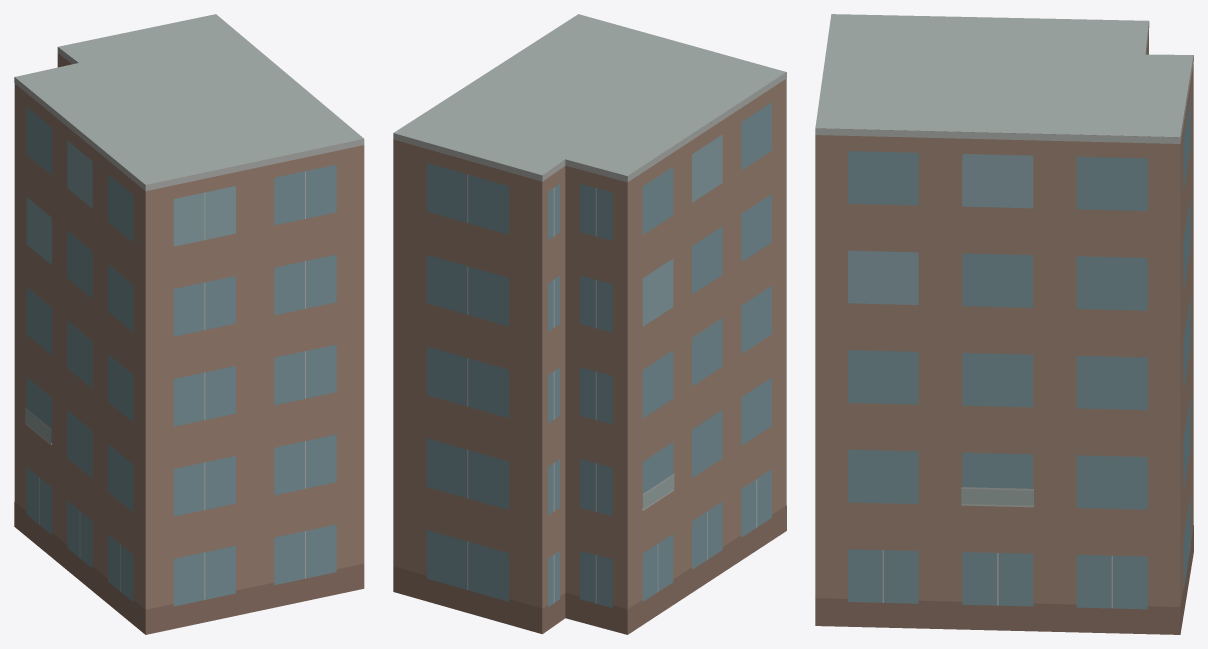
Rendered from survey-upis-32854858.glb.
3 views of the same model, side by side, from view 1: azimuth 30°, elevation 25°; view 2: azimuth 150°, elevation 25°; view 3: azimuth 270°, elevation 25° (orthographic). The views are drawn at different scales.
Visible parts, largest first — view 1: survey-upis-32854858.tmp; view 2: survey-upis-32854858.tmp; view 3: survey-upis-32854858.tmp.
Boxes of the visible parts, left/top/right/bottom form: survey-upis-32854858.tmp: left=14, top=14, right=364, bottom=634; survey-upis-32854858.tmp: left=393, top=14, right=786, bottom=634; survey-upis-32854858.tmp: left=815, top=14, right=1193, bottom=634.
Bounding box in the file's own units: 9.46 × 17.8 × 12.27.
